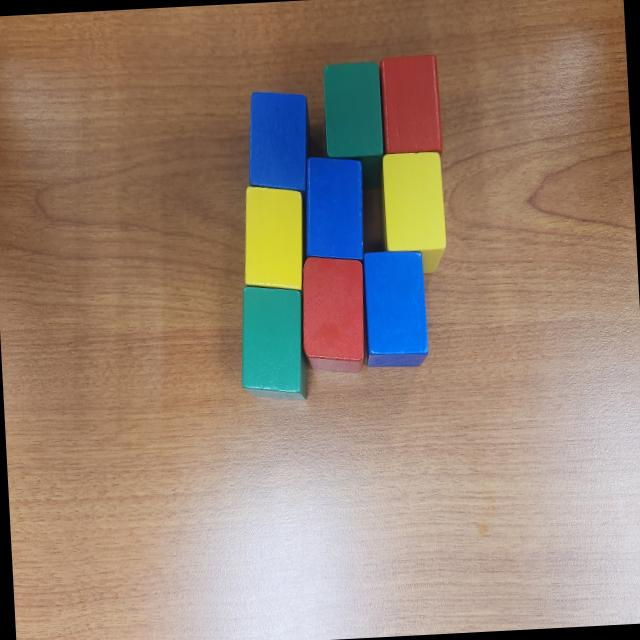blue: (359, 248, 431, 370), (298, 152, 368, 263), (244, 90, 315, 198)
green: (236, 282, 312, 401), (322, 60, 388, 195)
red: (298, 255, 369, 378), (379, 52, 445, 154)
yellow: (380, 151, 450, 277), (240, 183, 308, 297)
